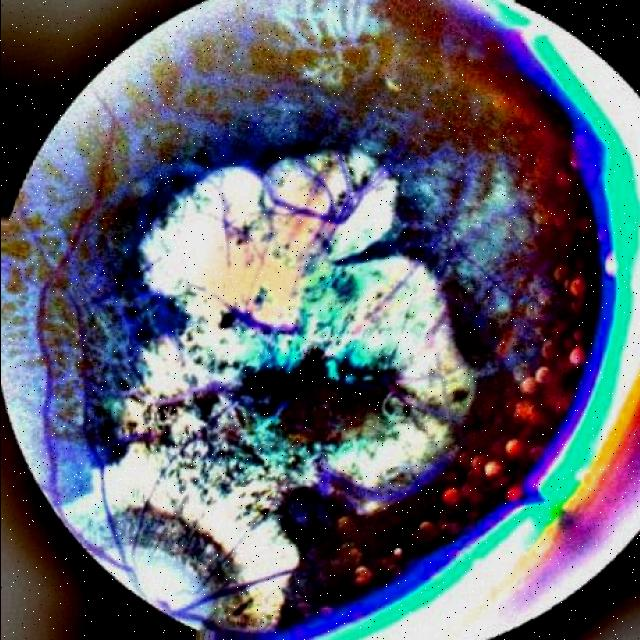Nerves: (29, 248, 143, 591), (147, 573, 288, 630)
